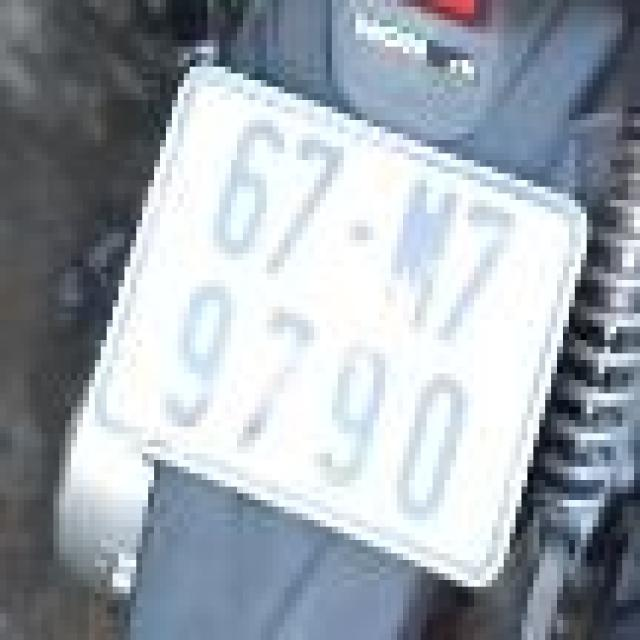0: (383, 363, 482, 529)
6: (198, 106, 297, 279)
7: (258, 115, 364, 307), (426, 184, 528, 351), (222, 306, 324, 457)
9: (302, 333, 403, 499), (153, 277, 246, 438)
M: (368, 162, 468, 339)
